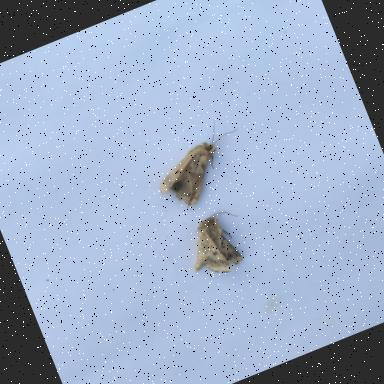abw: (141, 110, 260, 216), (175, 204, 259, 284)
